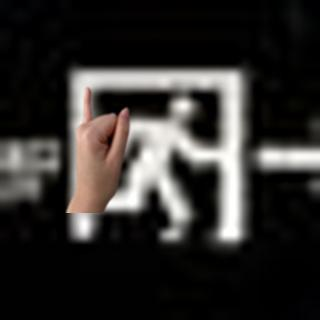Fine: (60, 80, 136, 212)
